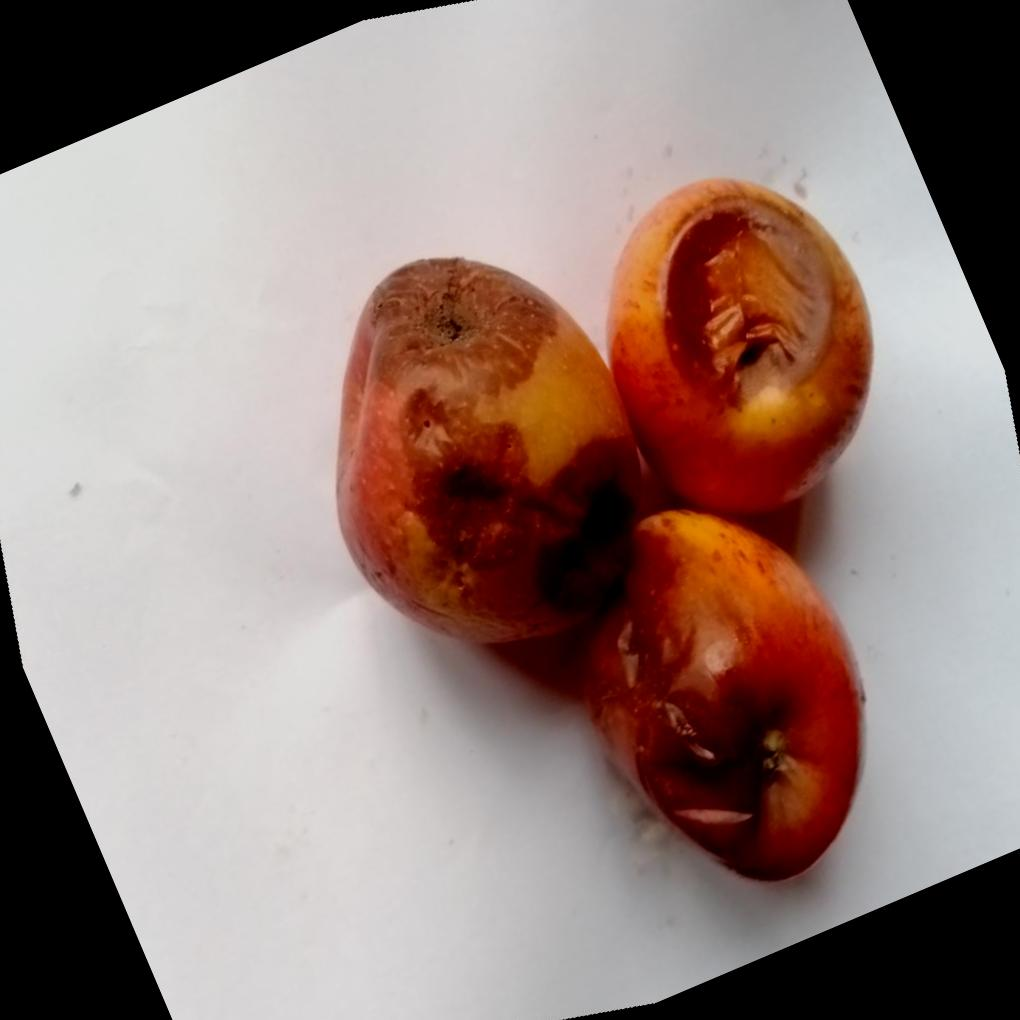FreshOrange: (336, 175, 876, 880)
